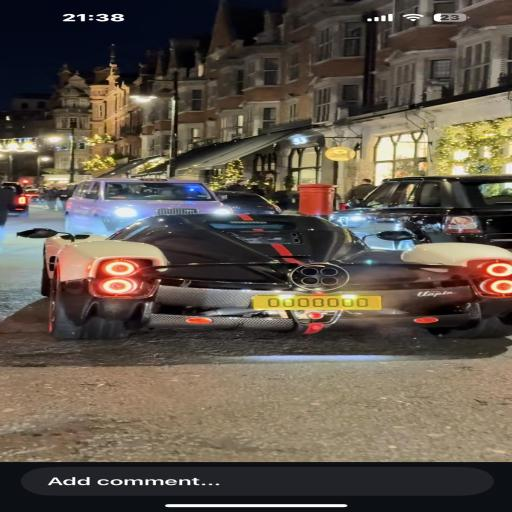numberplates: (253, 295, 381, 310)
